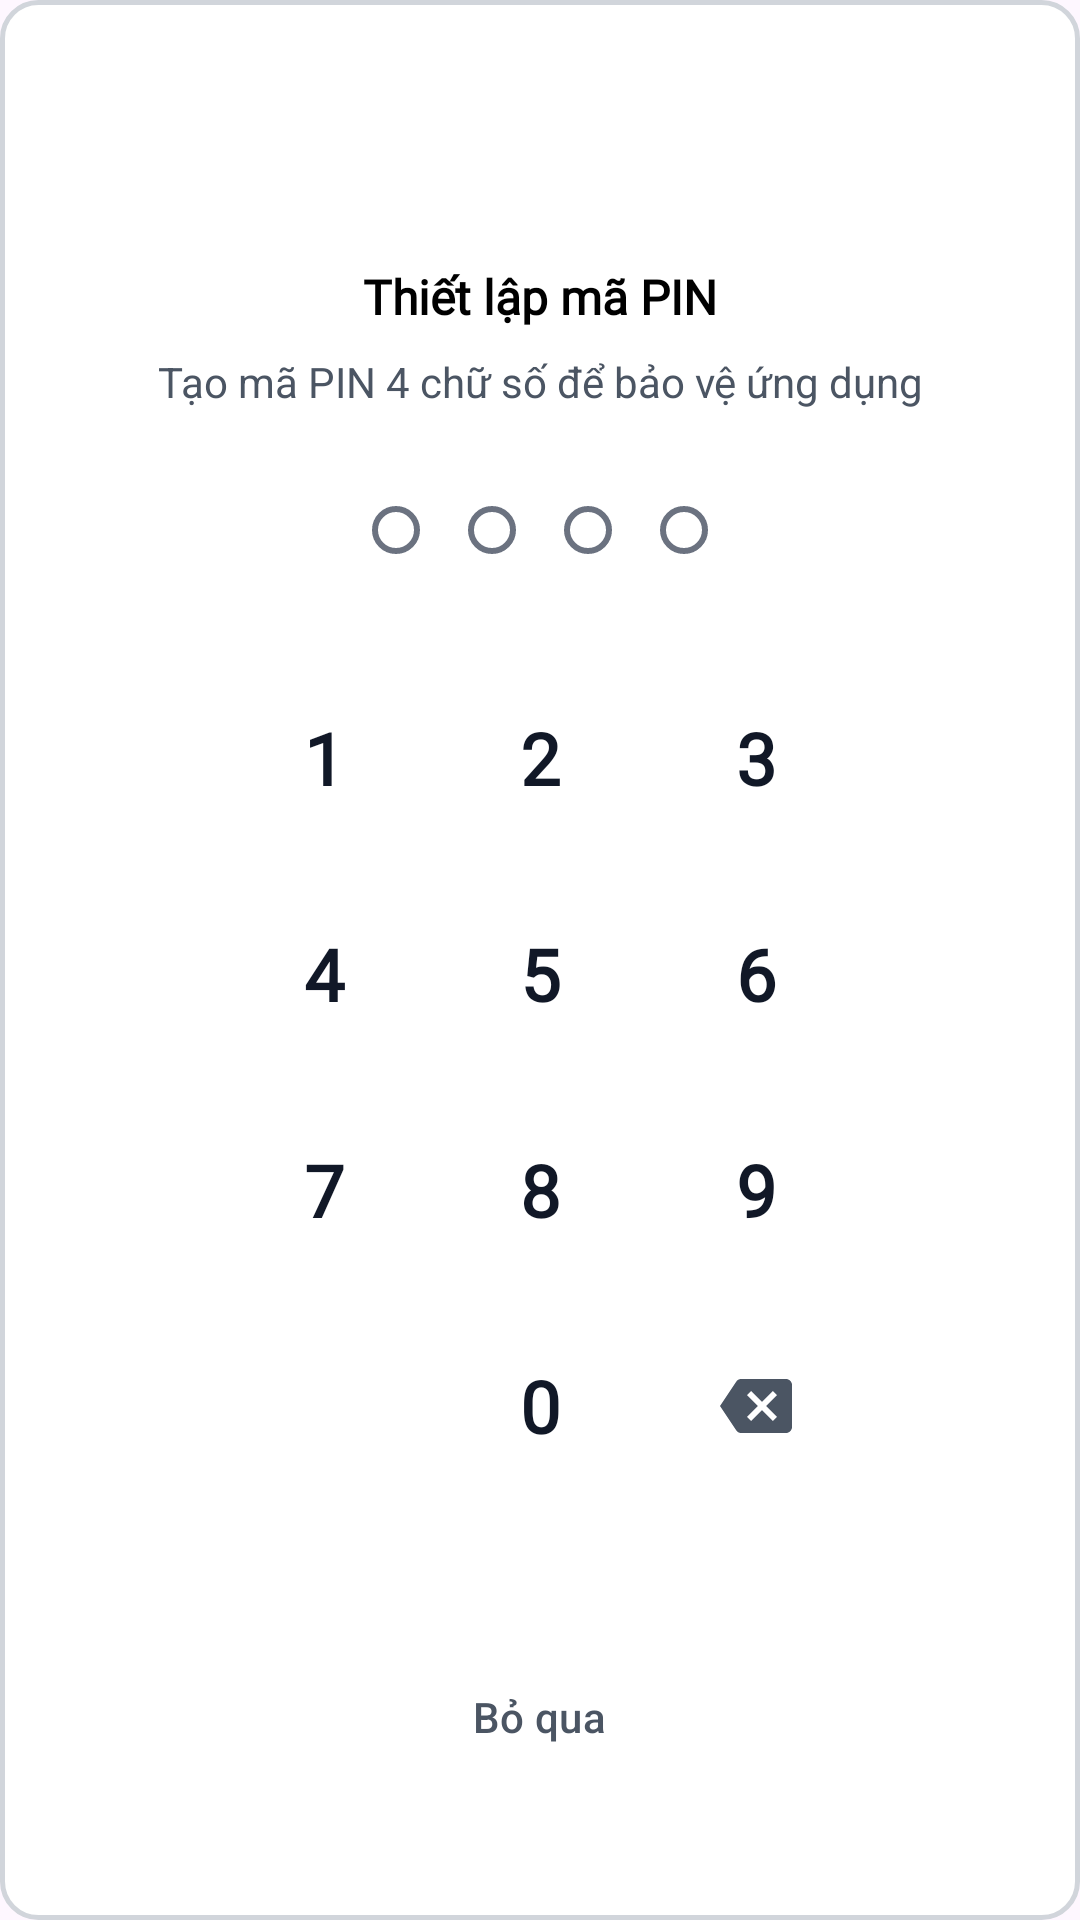

Screen size 1080px x 1920px. Icon name, then its box in pixels as (x1, y1, x2, y2):
pin dot empty: (372, 506, 420, 554), (468, 506, 516, 554), (564, 506, 612, 554), (660, 506, 708, 554)
Xóa: (720, 1379, 792, 1433)
